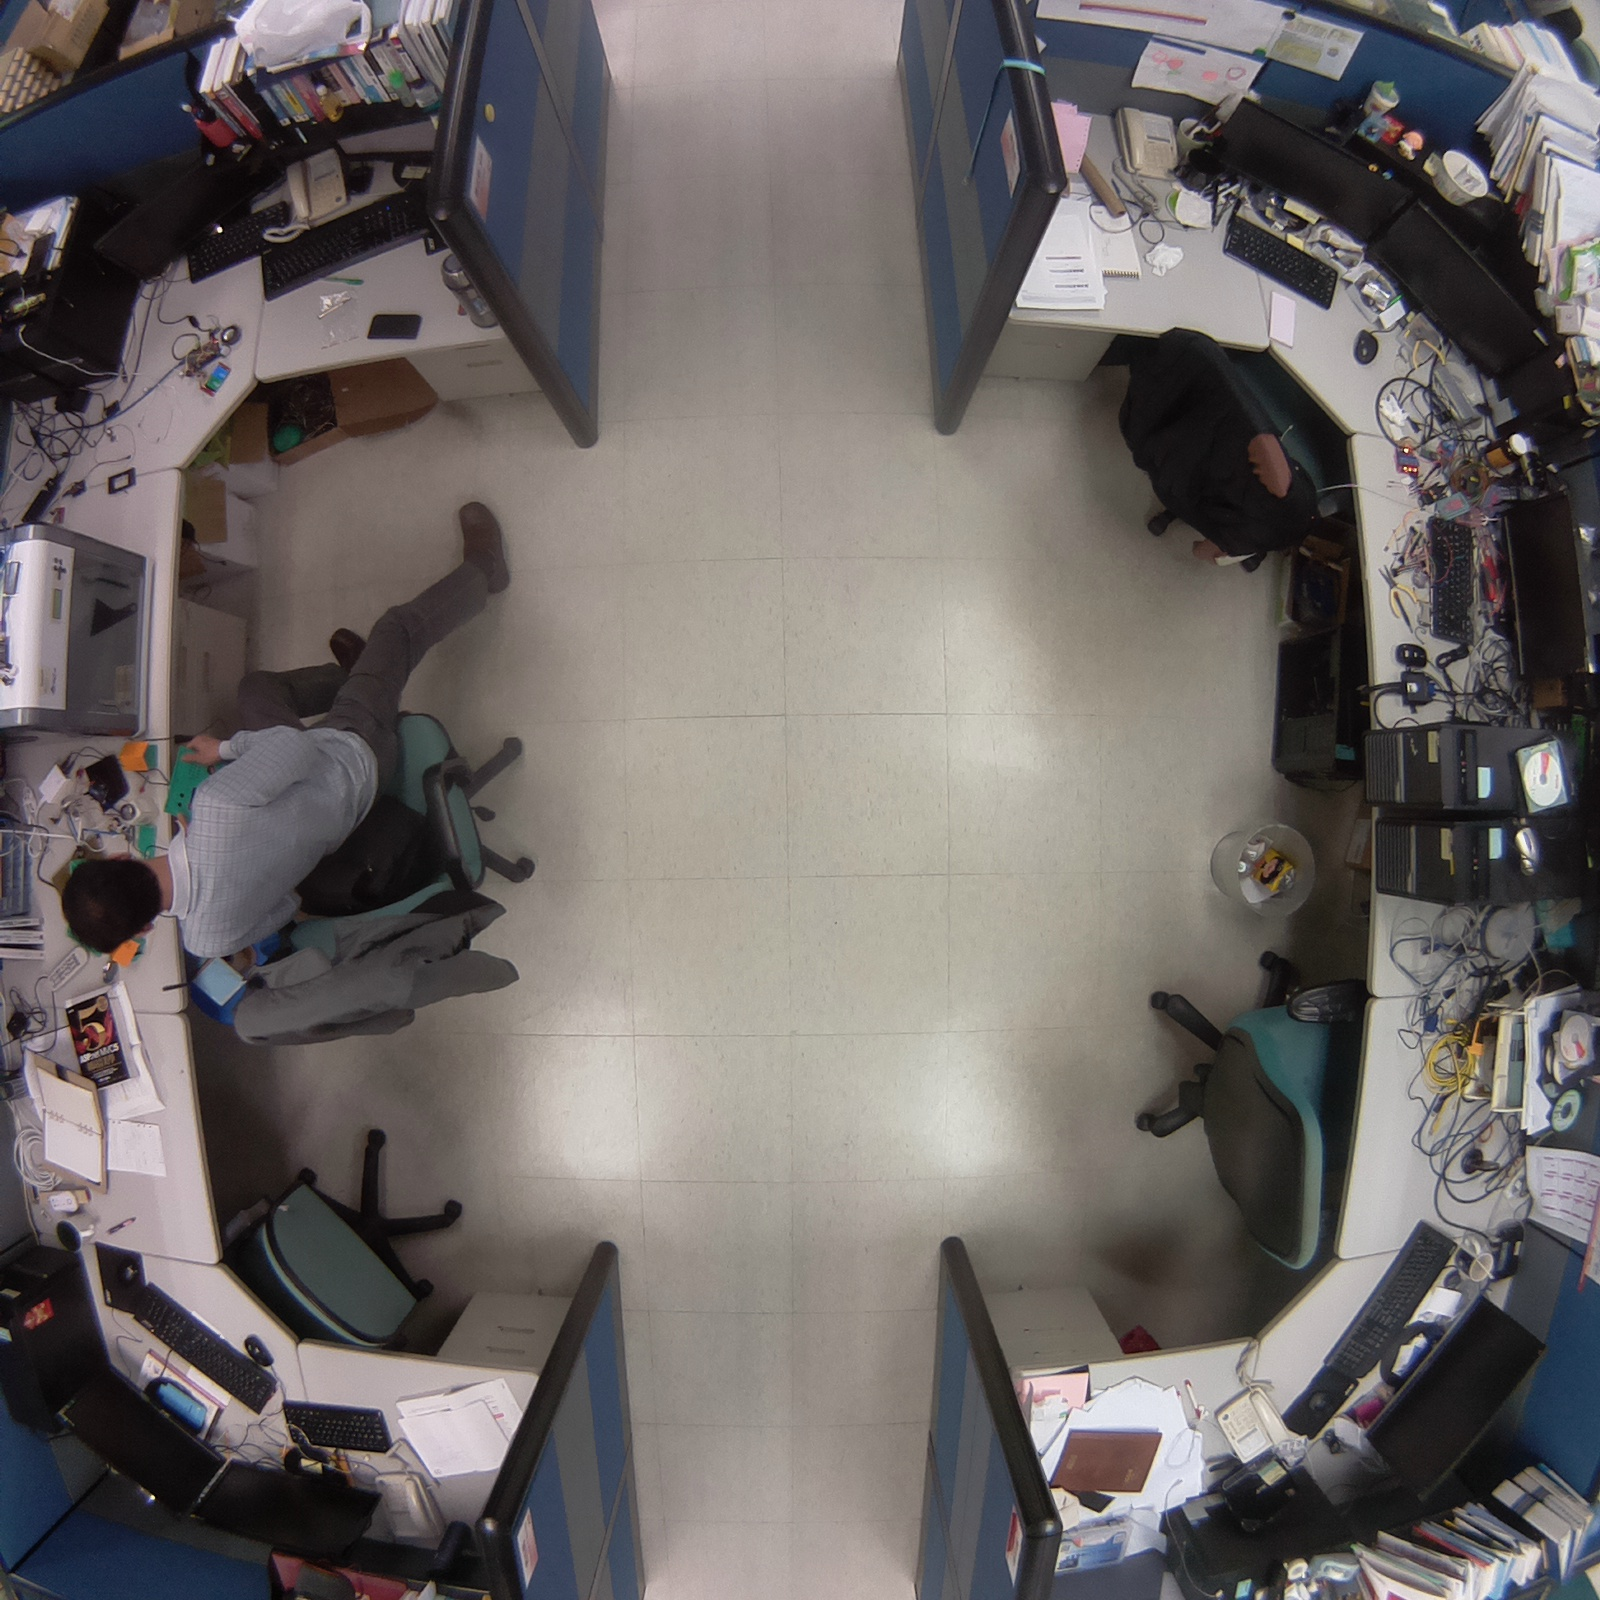chair: (1117, 937, 1376, 1283), (1096, 301, 1363, 596), (196, 1117, 481, 1365)
head: (51, 848, 172, 957)
sitting: (47, 481, 558, 1058)
